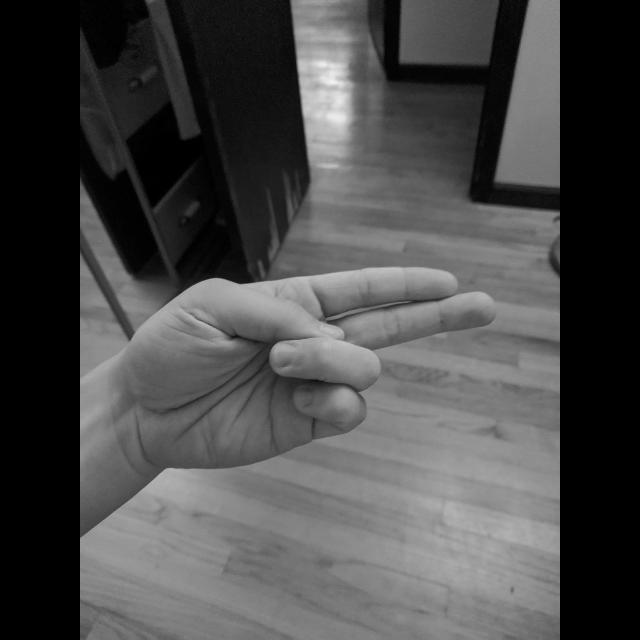H: (122, 260, 504, 476)
